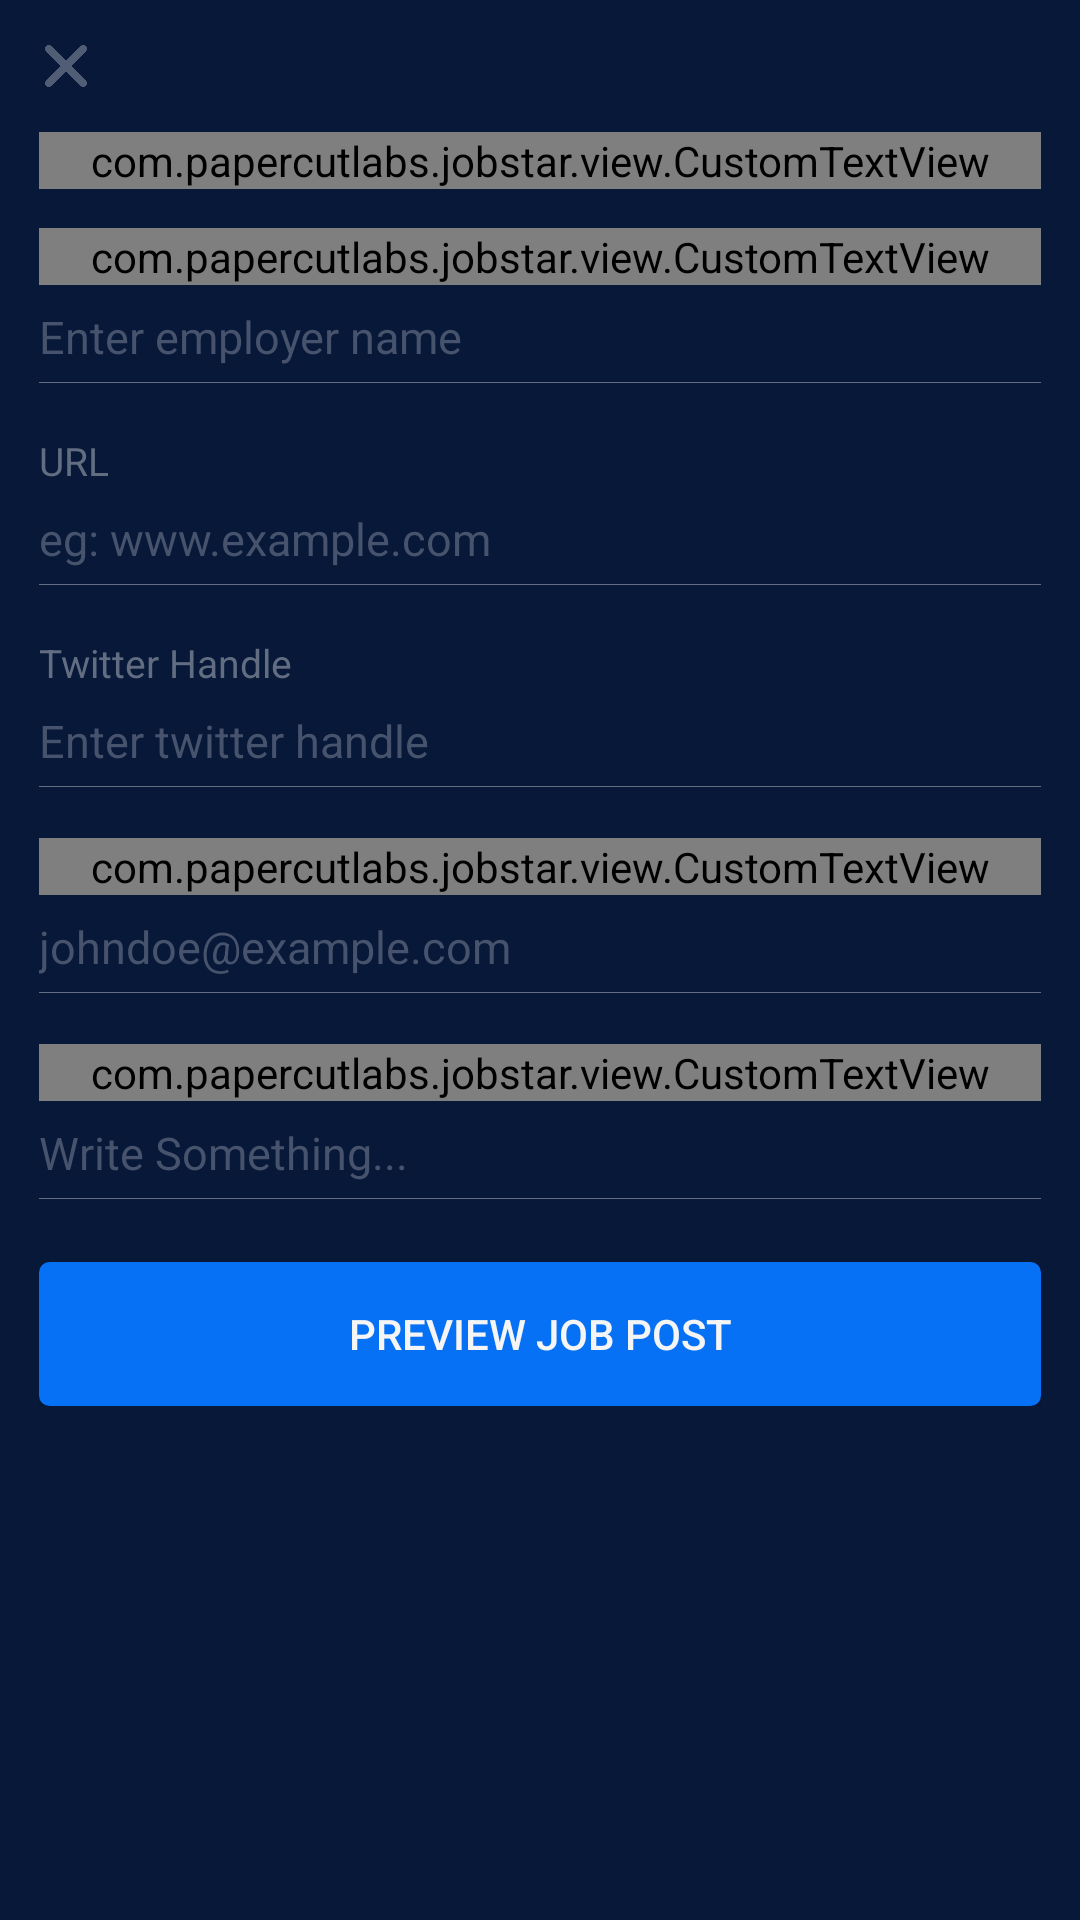

Where to tap for icons on this 1080 x 1920 app screen, as (x=x, y=y):
close: (x=66, y=66)
